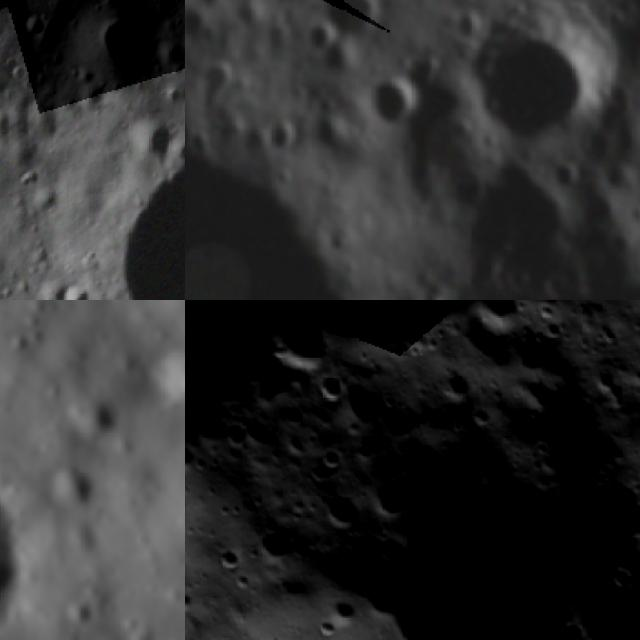crater: (456, 164, 578, 289), (476, 17, 596, 143), (96, 157, 185, 300), (72, 2, 177, 102), (258, 307, 336, 385), (54, 386, 128, 445), (44, 458, 110, 516), (132, 109, 185, 178), (369, 69, 417, 131), (314, 482, 368, 536), (312, 587, 366, 640), (326, 0, 389, 41), (154, 336, 185, 419), (463, 300, 527, 340), (250, 518, 300, 568), (364, 273, 453, 300), (192, 60, 242, 106), (222, 412, 268, 458), (206, 541, 247, 583), (312, 433, 354, 474), (263, 118, 298, 166), (435, 368, 475, 408), (312, 368, 351, 407), (308, 18, 348, 52), (46, 272, 90, 300), (32, 184, 65, 218), (222, 0, 262, 27), (466, 407, 496, 436), (229, 566, 257, 595), (30, 6, 52, 35), (636, 138, 640, 278)
